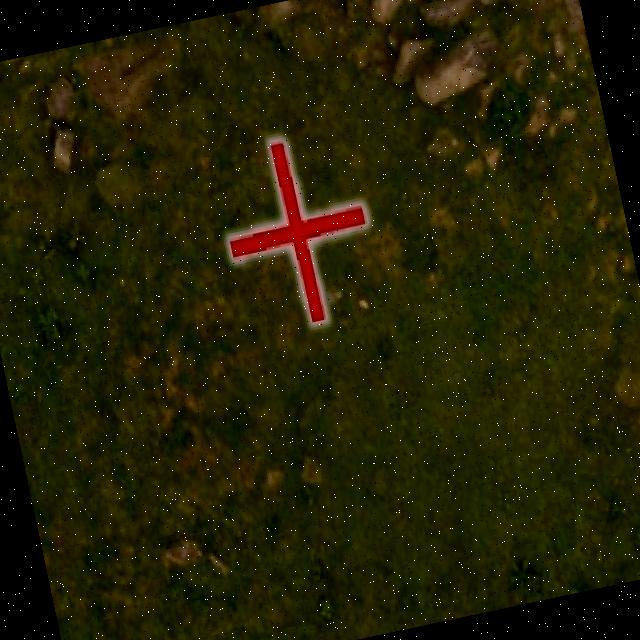x_marker: (210, 125, 383, 334)
